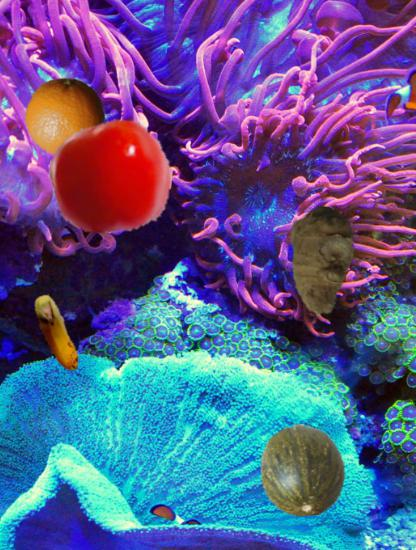Banana: (15, 292, 99, 376)
Ginger: (266, 206, 376, 316)
Melon: (257, 424, 350, 517)
Orange: (25, 76, 107, 158)
Tomato: (49, 115, 172, 238)
